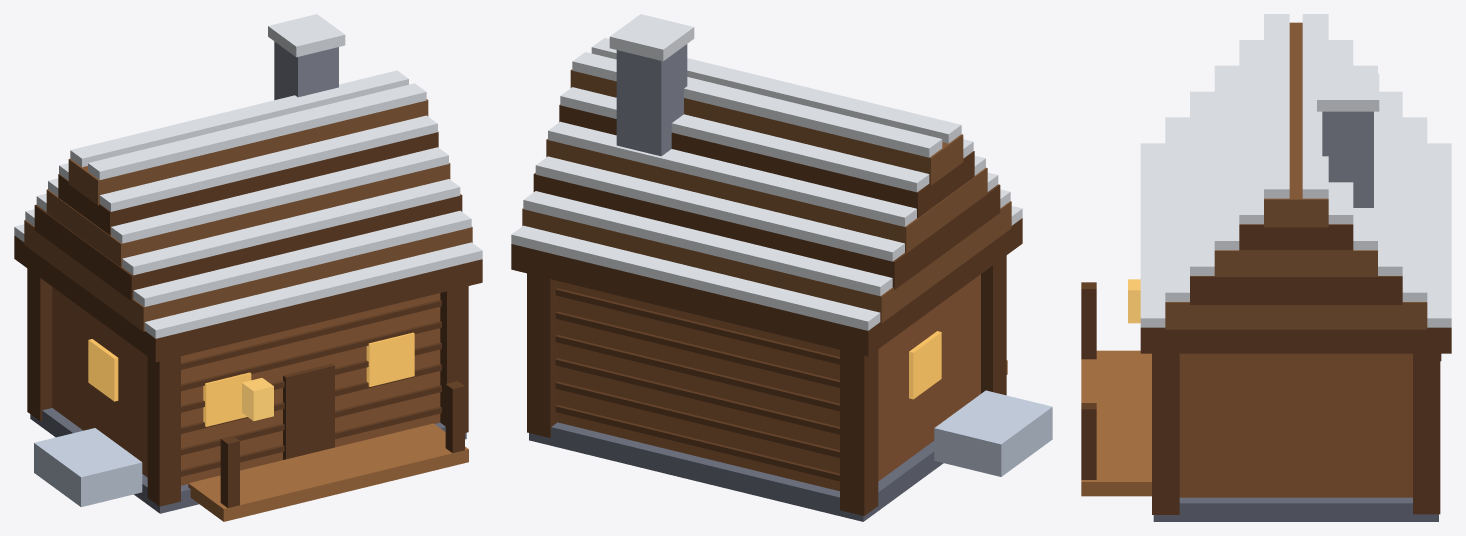
File: LogCabin.glb
The picture shows the model from 3 angles, left to right: view 1: azimuth 30°, elevation 25°; view 2: azimuth 150°, elevation 25°; view 3: azimuth 270°, elevation 25°; orthographic projection. The views are drawn at different scales.
Parts seen in each view (by area): view 1: LogCabin; view 2: LogCabin; view 3: LogCabin.
Part boxes in pixels (x1=…): LogCabin: x1=14, y1=14, x2=482, y2=521; LogCabin: x1=511, y1=14, x2=1052, y2=521; LogCabin: x1=1081, y1=14, x2=1451, y2=521.
Bounding box in the file's own units: 18.59 × 16.9 × 14.3.
Materials: 2 (2 with a texture image).
